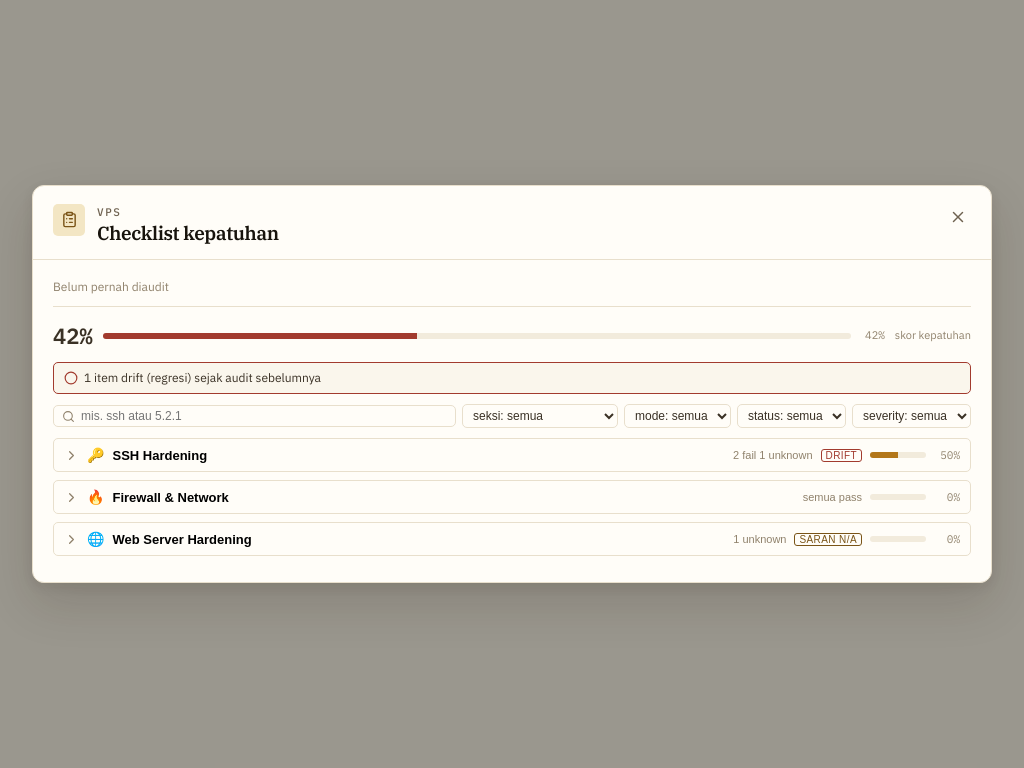
VpsChecklistModal (SPEC-220/221 · UI modal) › klik header expand lalu collapse
Check: the text with test id "score-total" is shown, box [53,319,93,352]
Step 1. Click the button with test id "section-ssh" → [160, 455], box [54,439,970,471]
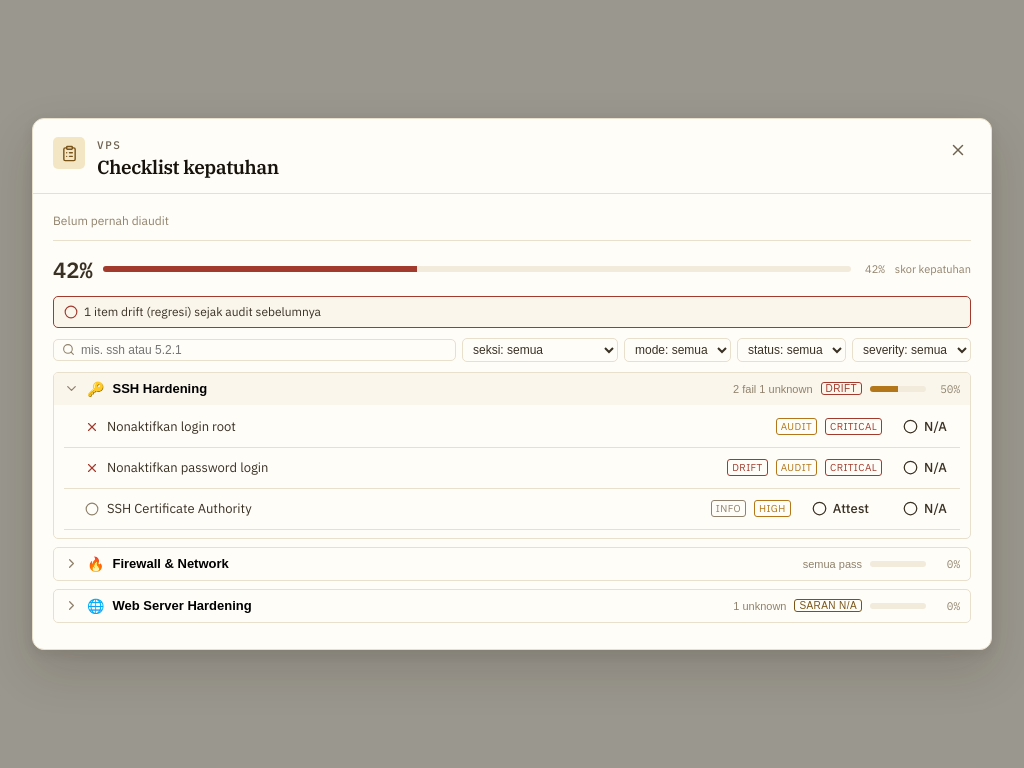
Check: the element with test id "item-ssh-b2" is shown, box [64,407,960,448]
Step 2. Click the button with test id "section-ssh" → [160, 389], box [54,373,970,405]
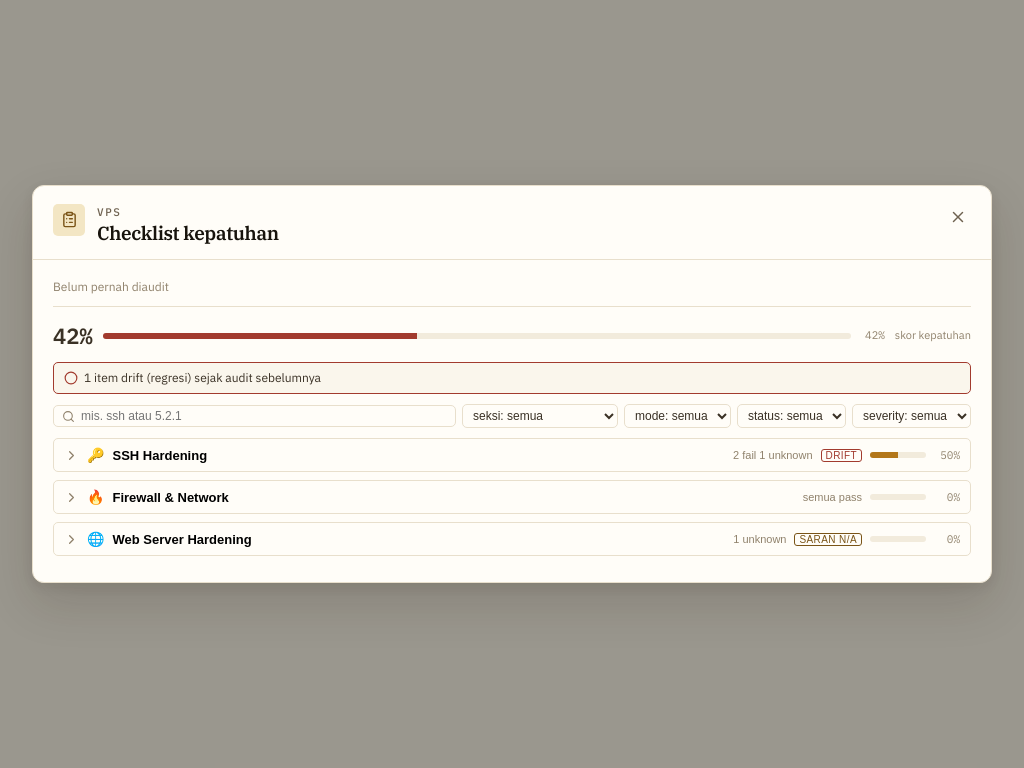
Check: the element with test id "item-ssh-b2" is gone
